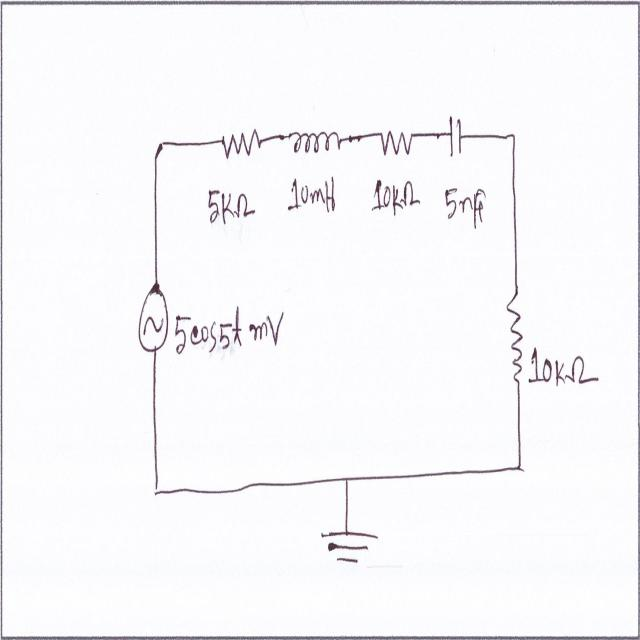ac_current: (137, 286, 170, 356)
capacitor: (448, 100, 464, 162)
ground: (318, 526, 381, 570)
inductor: (286, 122, 344, 160)
resistor: (502, 288, 525, 384), (378, 125, 414, 165), (221, 129, 264, 161)
